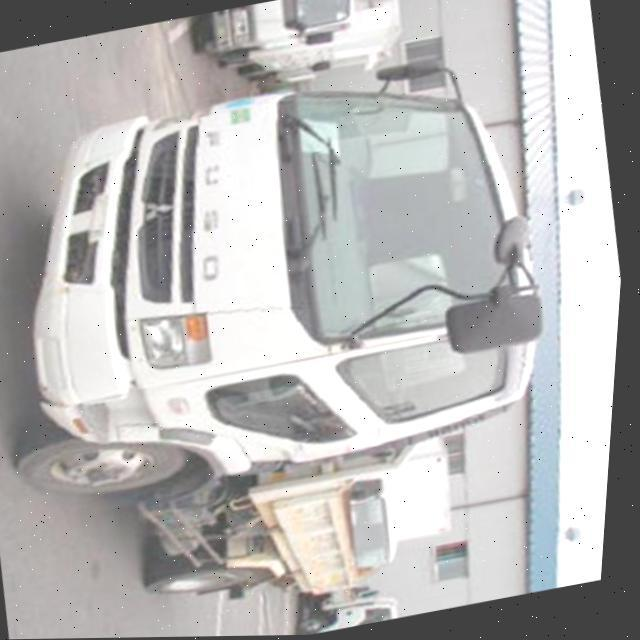truck: (0, 38, 607, 640)
